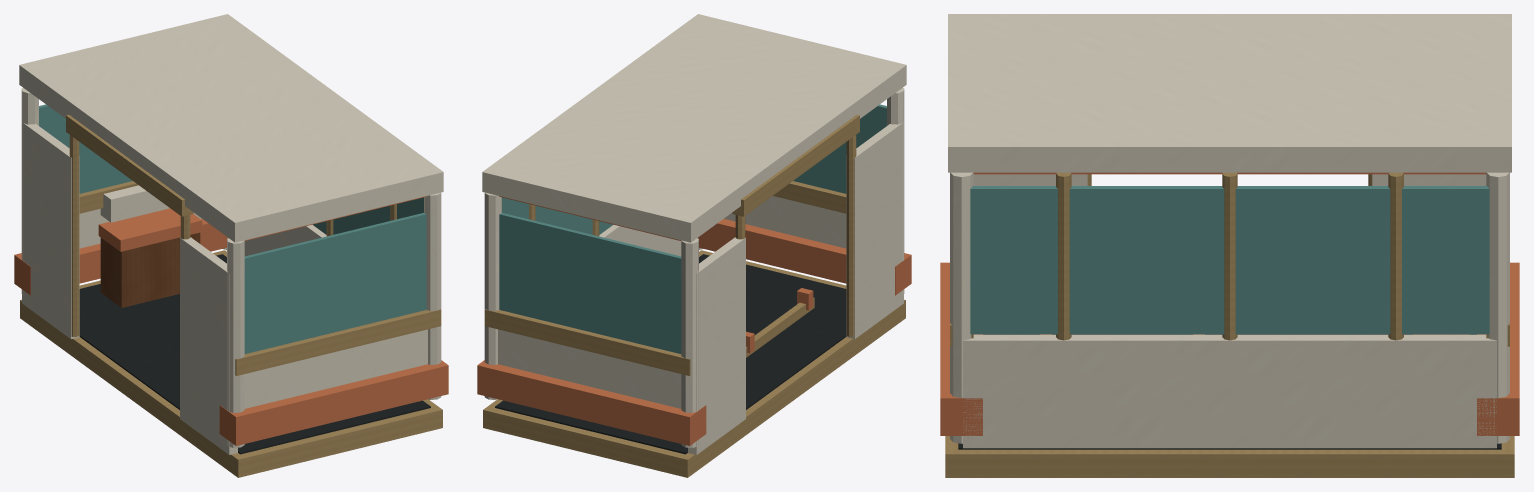
Rendered from AST-TRM-G4-002_cart_tram_component.glb.
3 renders of one model, left to right at view 1: azimuth 30°, elevation 25°; view 2: azimuth 150°, elevation 25°; view 3: azimuth 270°, elevation 25°, orthographic. The views are drawn at different scales.
Parts seen in each view (by area): view 1: Tram_Layered_Canopy, Tram_End_Glazing_2.26, Tram_Floor, Tram_AntiSlip_Deck, Tram_PortPocket_-1.74, Tram_PortPocket_1.74, Tram_End_Bumper_2.26, Tram_End_Guard_2.26, Tram_Operator_Perch, Tram_End_Sill_2.26, Tram_Corner_(-1.25, 2.26), Tram_Operator_Pad (+11 smaller); view 2: Tram_Layered_Canopy, Tram_End_Glazing_-2.26, Tram_AntiSlip_Deck, Tram_Floor, Tram_PortPocket_1.74, Tram_PortPocket_-1.74, Tram_End_Bumper_-2.26, Tram_End_Guard_-2.26, Tram_End_Bumper_2.26, Tram_End_Sill_-2.26, Tram_End_Guard_2.26, Tram_Corner_(-1.25, -2.26) (+9 smaller); view 3: Tram_Layered_Canopy, Tram_Starboard_Glazing, Tram_Starboard_LowerWall, Tram_Floor, Tram_Corner_(1.25, -2.26), Tram_Corner_(1.25, 2.26), Tram_End_Bumper_-2.26, Tram_End_Bumper_2.26, Tram_Starboard_Rib_0, Tram_Starboard_Rib_-1.4, Tram_Starboard_Rib_1.4, Tram_AntiSlip_Deck (+3 smaller).
Boxes of the visible parts, box(x1,y1,x2,y2) form: Tram_Layered_Canopy: box(19, 14, 443, 242); Tram_End_Glazing_2.26: box(244, 212, 426, 353); Tram_Floor: box(20, 250, 442, 477); Tram_AntiSlip_Deck: box(79, 254, 430, 454); Tram_PortPocket_-1.74: box(22, 122, 79, 338); Tram_PortPocket_1.74: box(180, 237, 237, 454); Tram_End_Bumper_2.26: box(219, 360, 448, 445); Tram_End_Guard_2.26: box(244, 329, 427, 408); Tram_Operator_Perch: box(100, 232, 200, 307); Tram_End_Sill_2.26: box(235, 309, 441, 375); Tram_Corner_(-1.25, 2.26): box(227, 238, 244, 447); Tram_Operator_Pad: box(98, 208, 202, 251); Tram_Layered_Canopy: box(482, 14, 906, 242); Tram_End_Glazing_-2.26: box(499, 212, 681, 353); Tram_AntiSlip_Deck: box(495, 254, 846, 454); Tram_Floor: box(483, 250, 905, 477); Tram_PortPocket_1.74: box(846, 122, 903, 338); Tram_PortPocket_-1.74: box(688, 237, 745, 454); Tram_End_Bumper_-2.26: box(477, 360, 706, 445); Tram_End_Guard_-2.26: box(498, 329, 681, 408); Tram_End_Bumper_2.26: box(697, 219, 911, 295); Tram_End_Sill_-2.26: box(484, 309, 690, 375); Tram_End_Guard_2.26: box(724, 196, 846, 248); Tram_Corner_(-1.25, -2.26): box(681, 238, 698, 447); Tram_Layered_Canopy: box(948, 14, 1511, 172); Tram_Starboard_Glazing: box(970, 186, 1489, 334); Tram_Starboard_LowerWall: box(963, 334, 1496, 448); Tram_Floor: box(945, 436, 1514, 477); Tram_Corner_(1.25, -2.26): box(1486, 172, 1509, 443); Tram_Corner_(1.25, 2.26): box(950, 172, 973, 443); Tram_End_Bumper_-2.26: box(1477, 262, 1519, 435); Tram_End_Bumper_2.26: box(940, 262, 982, 435); Tram_Starboard_Rib_0: box(1222, 172, 1237, 340); Tram_Starboard_Rib_-1.4: box(1388, 172, 1403, 340); Tram_Starboard_Rib_1.4: box(1056, 172, 1071, 340); Tram_AntiSlip_Deck: box(958, 334, 1501, 449).
Size of the model in its own units: 2.72 by 3.23 by 4.88.
Materials: 6 (4 with a texture image).
